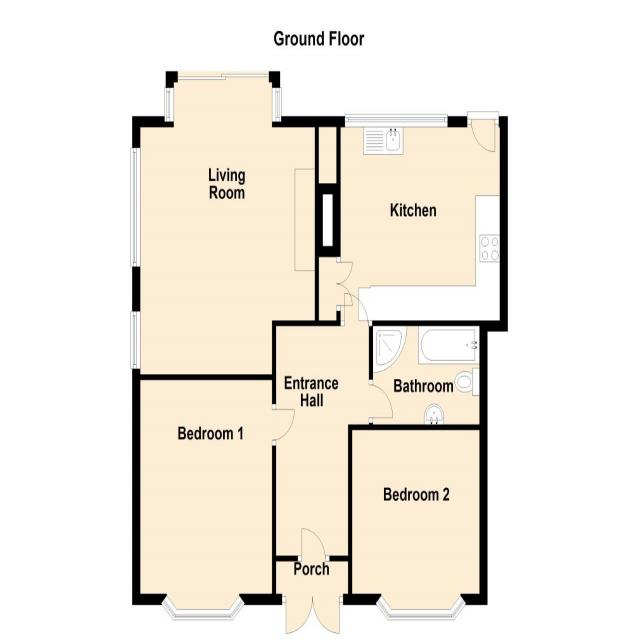DOOR: (466, 111, 500, 153), (340, 292, 373, 327), (369, 379, 393, 424), (272, 403, 296, 447)
ROOM: (130, 71, 341, 380), (314, 111, 508, 332), (131, 374, 296, 622), (347, 424, 488, 622)
WINDOW: (374, 593, 468, 622), (160, 594, 246, 621), (344, 113, 448, 128), (129, 147, 141, 269), (130, 309, 141, 370), (271, 87, 282, 123), (164, 87, 174, 123)
